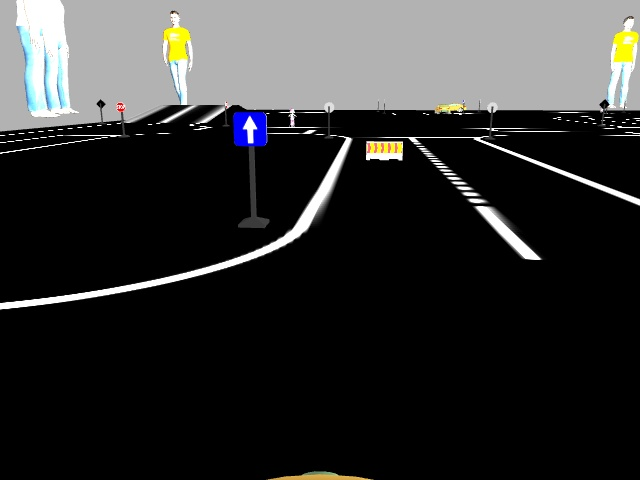ClosedRoadStand: (365, 141, 402, 158)
OneWay: (234, 112, 267, 146)
